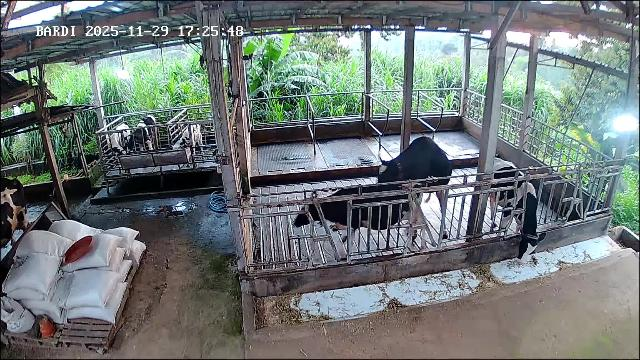mounting: (377, 133, 451, 239)
